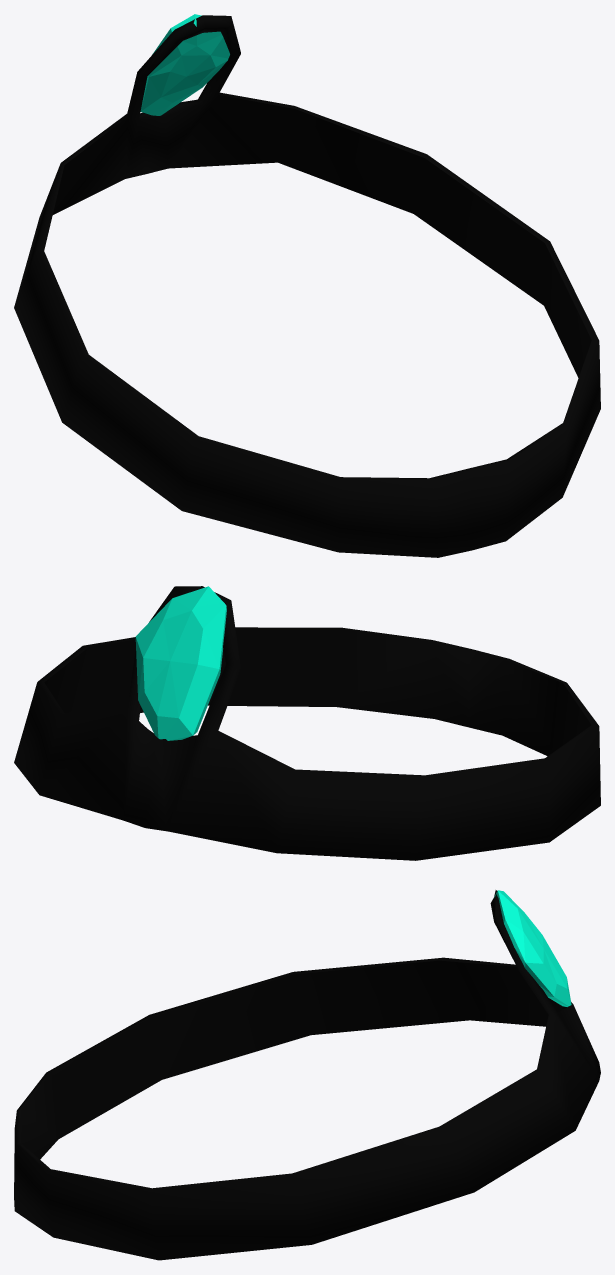
File: HelmetDvergerFixed.fbx
3 views of the same model, one above another, from view 1: azimuth 30°, elevation 25°; view 2: azimuth 150°, elevation 25°; view 3: azimuth 270°, elevation 25° (orthographic). The views are drawn at different scales.
Parts seen in each view (by area): view 1: HelmetDverger_2; view 2: HelmetDverger_2; view 3: HelmetDverger_2.
Boxes of the visible parts, bbox=[...] form: HelmetDverger_2: bbox=[14, 14, 600, 557]; HelmetDverger_2: bbox=[14, 586, 600, 860]; HelmetDverger_2: bbox=[14, 890, 600, 1260].
Bounding box in the file's own units: 19.77 × 13.17 × 23.08.
2 materials, 1 textured.
